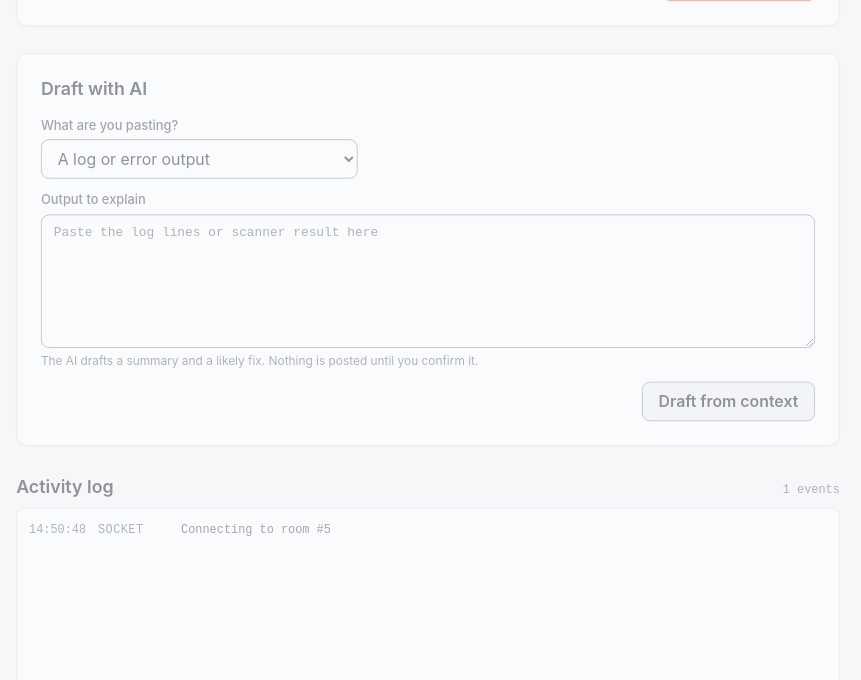
Test: RoomDetailsPage › AI drafts › says it is working while a slow draft is in flight
(page scrolled)
Type "log" into the text box labelled "Output to explain" at (428, 281), box [41,214,815,348]
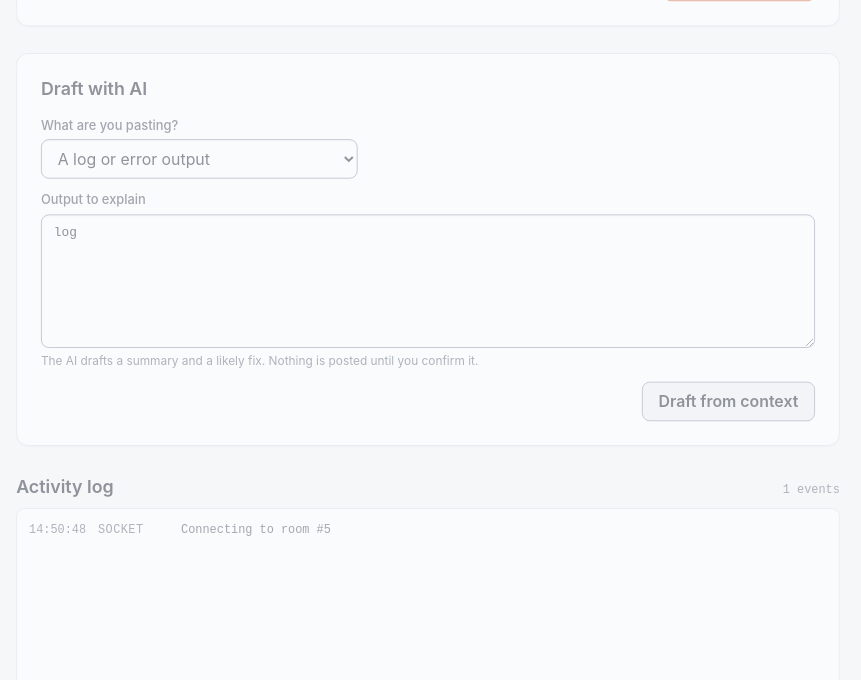
Click the button "Draft from context" at (728, 401), box [642,381,815,421]
(page scrolled)
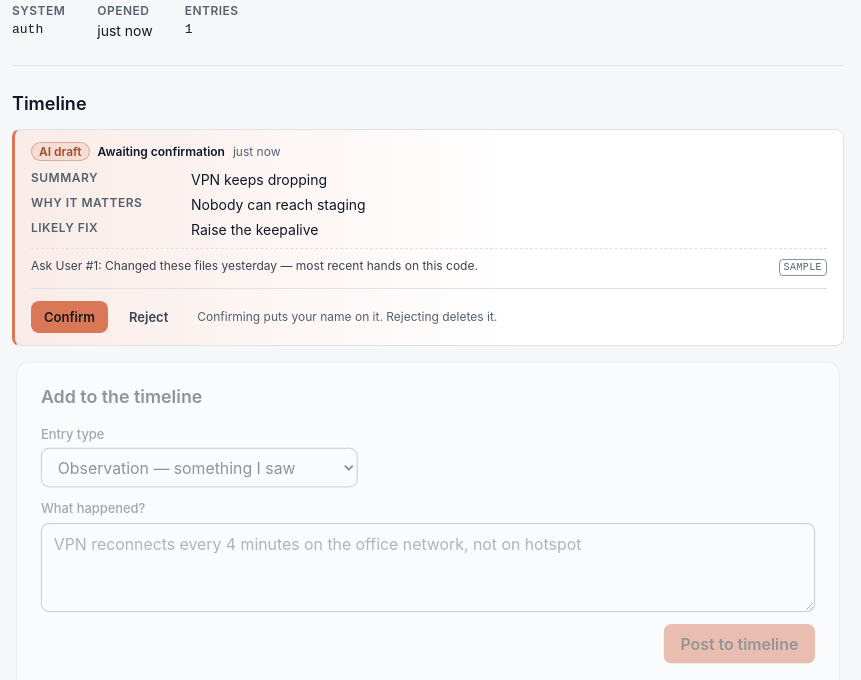
Check: the text "Raise the keepalive" is shown, box [191,221,318,238]
